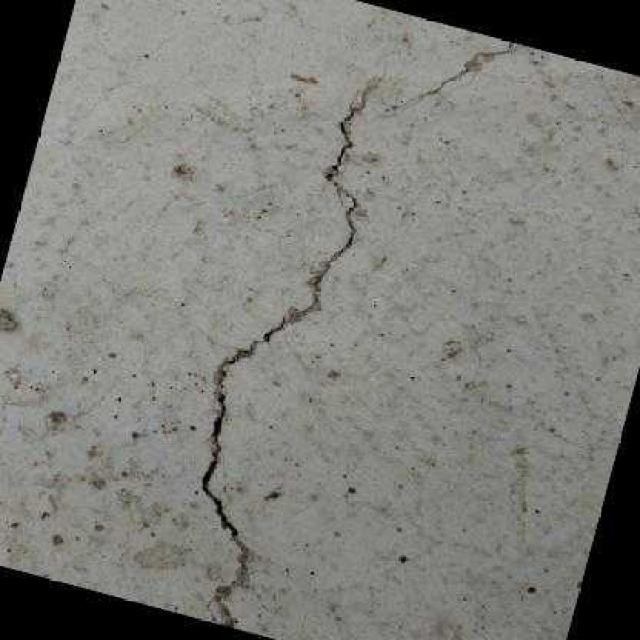D00: (197, 109, 357, 537)
